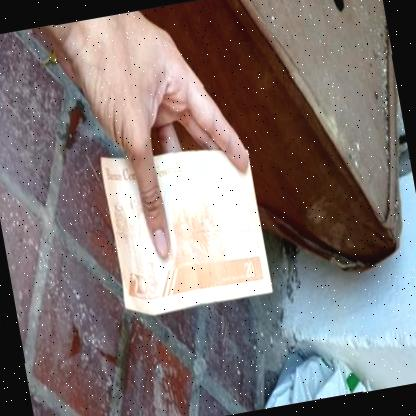twenty-back-vef: (96, 130, 274, 320)
